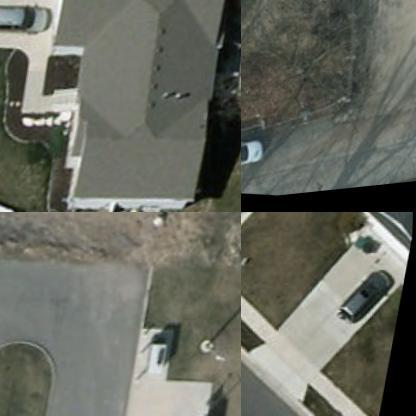car: (336, 263, 404, 340), (0, 0, 56, 46), (241, 138, 270, 181)
